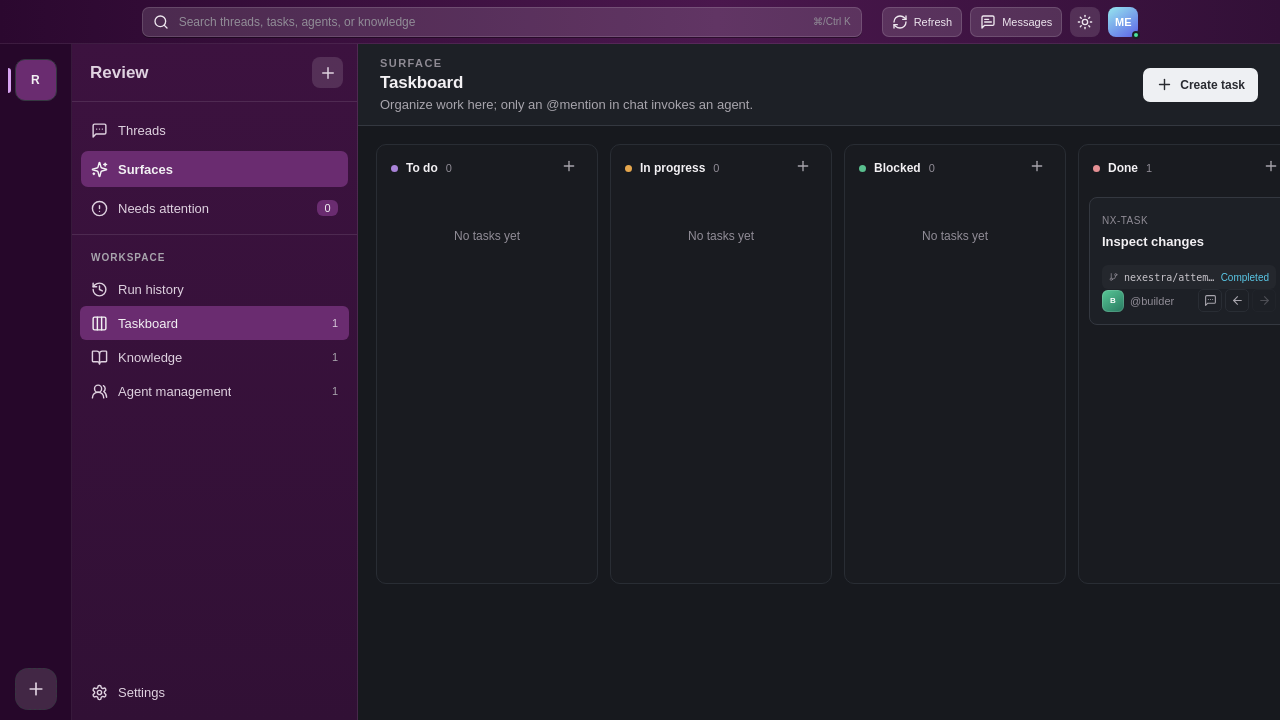
Assignment review UI › keeps a failed inspection retryable and reports why a comparison is unavailable
The image size is (1280, 720).
Click the button "NX-TASK Inspect changes nexestra/attempt-one completed".
click(1189, 250)  # box [1102,210,1276,289]
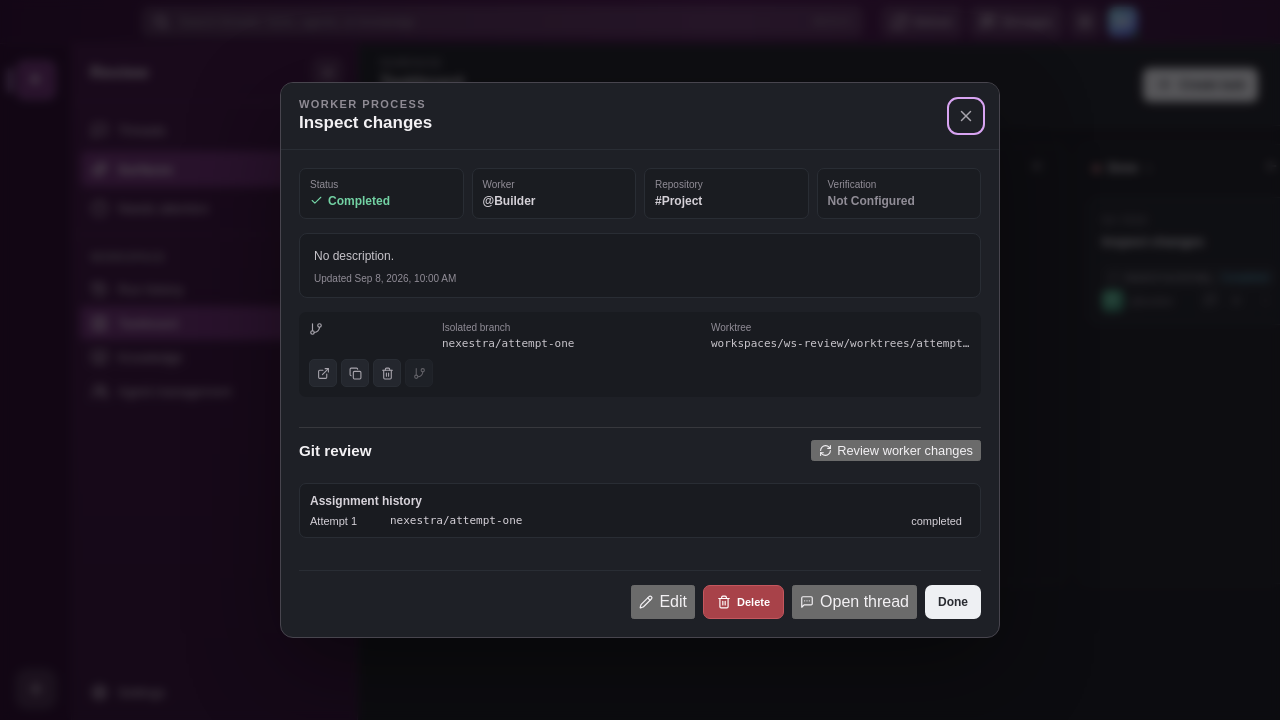
Expected: the button "Review worker changes" is shown
Click the button "Review worker changes".
click(896, 451)  # box [810,440,981,461]
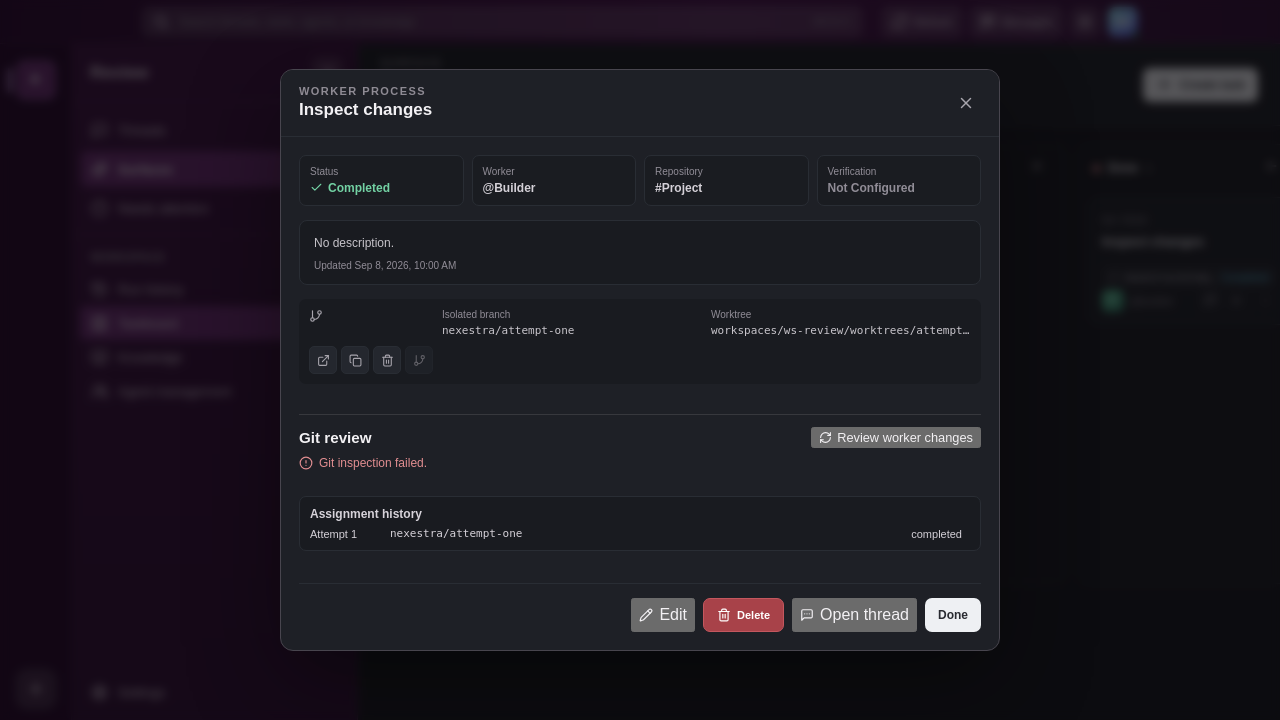
Expected: the text "Git inspection failed." is shown, [299,456,427,470]
Click the button "Review worker changes".
click(896, 438)  # box [810,427,981,448]
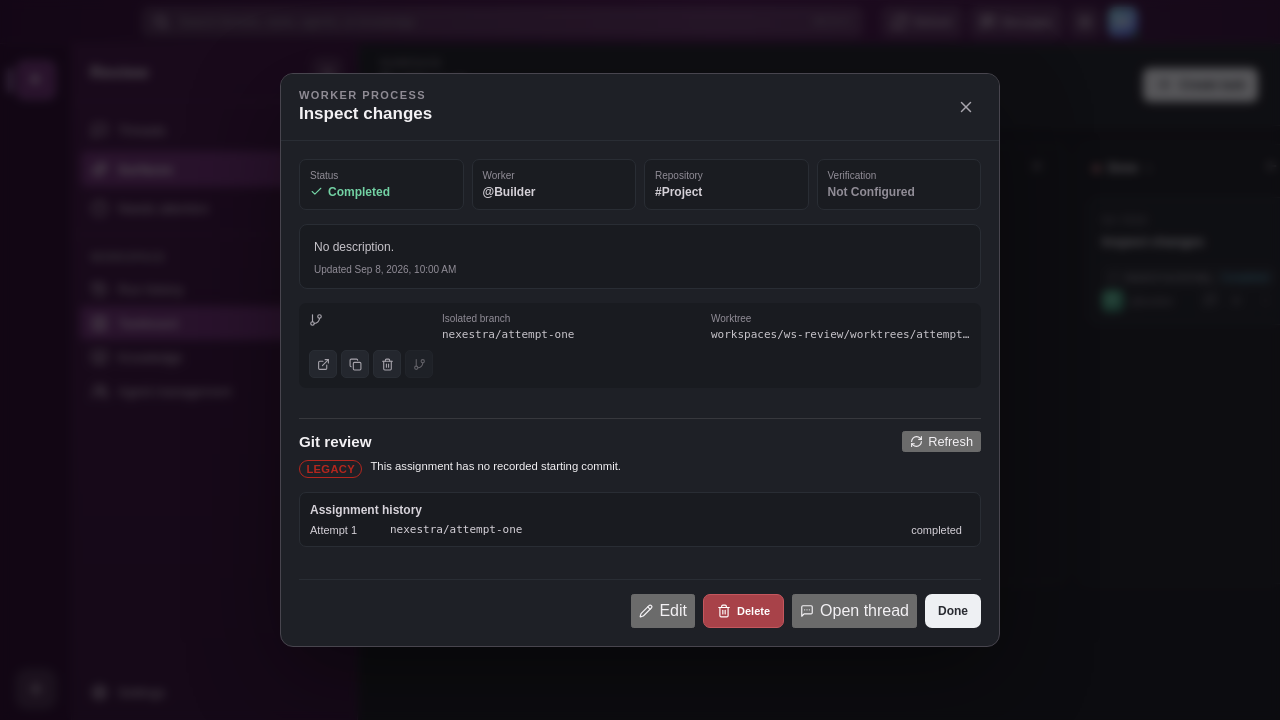
Expected: the text "This assignment has no recorded starting commit." is shown, [370,460,621,472]
